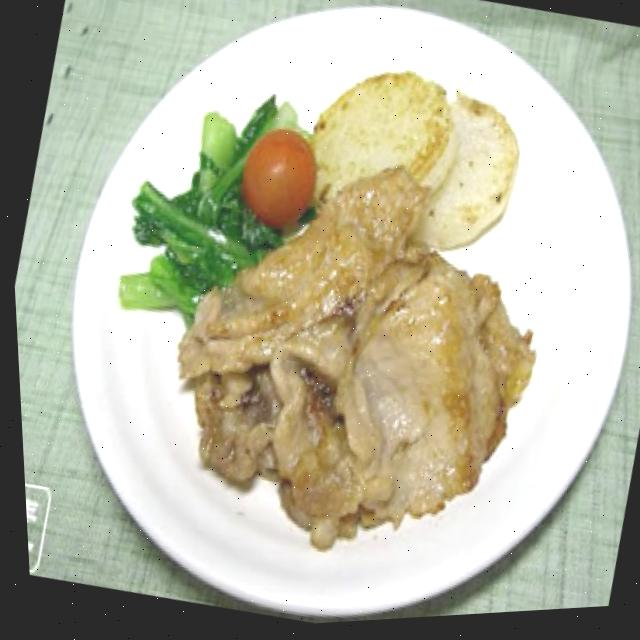猪肉菜式: (111, 120, 596, 613)
